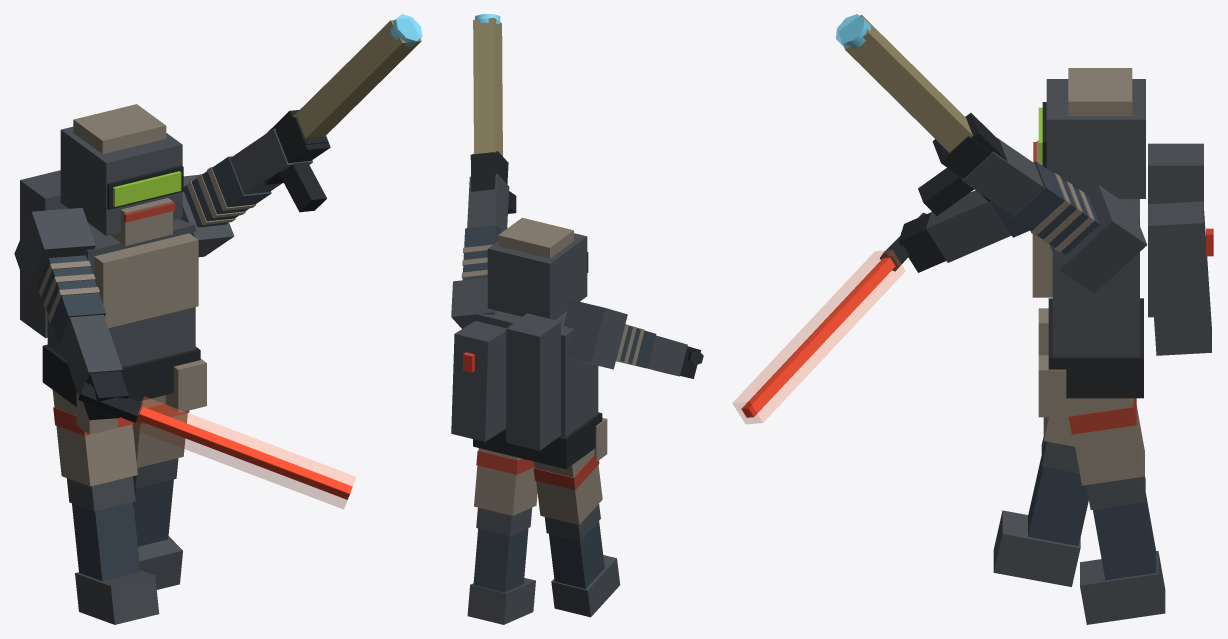
Rendered from vanguardTrooper.glb.
3 renders of one model, left to right at view 1: azimuth 30°, elevation 25°; view 2: azimuth 150°, elevation 25°; view 3: azimuth 270°, elevation 25°, orthographic. The views are drawn at different scales.
Visible parts, largest first — view 1: n63, n4, n18, n40, n2, n80, n75, n48, n82, n6, n62, n20 (+22 smaller); view 2: n12, n18, n14, n40, n2, n48, n70, n75, n65, n6, n80, n72 (+13 smaller); view 3: n14, n18, n63, n2, n40, n28, n65, n82, n72, n6, n70, n80 (+17 smaller).
Part boxes in pixels (x1=…): n63: x1=132, y1=396, x2=355, y2=508; n4: x1=94, y1=233, x2=198, y2=327; n18: x1=60, y1=126, x2=182, y2=235; n40: x1=293, y1=20, x2=421, y2=138; n2: x1=47, y1=218, x2=195, y2=367; n80: x1=72, y1=502, x2=140, y2=581; n75: x1=52, y1=390, x2=137, y2=486; n48: x1=14, y1=208, x2=95, y2=291; n82: x1=75, y1=570, x2=159, y2=624; n6: x1=42, y1=344, x2=200, y2=406; n62: x1=137, y1=406, x2=352, y2=499; n20: x1=73, y1=104, x2=166, y2=153; n12: x1=506, y1=313, x2=560, y2=450; n18: x1=487, y1=233, x2=587, y2=319; n14: x1=451, y1=321, x2=506, y2=441; n40: x1=473, y1=17, x2=502, y2=155; n2: x1=477, y1=311, x2=598, y2=437; n48: x1=564, y1=299, x2=627, y2=369; n70: x1=473, y1=528, x2=528, y2=592; n75: x1=533, y1=449, x2=602, y2=524; n65: x1=474, y1=448, x2=537, y2=515; n6: x1=473, y1=412, x2=602, y2=469; n80: x1=549, y1=521, x2=604, y2=588; n72: x1=467, y1=578, x2=535, y2=624; n14: x1=1148, y1=201, x2=1211, y2=355; n18: x1=1046, y1=79, x2=1145, y2=198; n63: x1=732, y1=250, x2=905, y2=423; n2: x1=1052, y1=199, x2=1139, y2=356; n40: x1=839, y1=14, x2=972, y2=152; n28: x1=1049, y1=185, x2=1147, y2=293; n65: x1=1066, y1=398, x2=1144, y2=485; n82: x1=993, y1=510, x2=1080, y2=586; n72: x1=1080, y1=551, x2=1165, y2=624; n6: x1=1048, y1=298, x2=1143, y2=398; n70: x1=1093, y1=493, x2=1156, y2=580; n80: x1=1028, y1=456, x2=1088, y2=545.
Size of the model in its own units: 0.9774 by 1.86 by 1.21.
